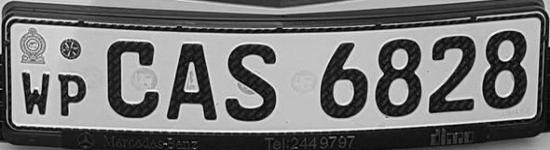2: (426, 30, 480, 119)
6: (310, 38, 373, 122)
8: (482, 24, 532, 115), (376, 34, 425, 121)
A: (164, 41, 219, 128)
C: (100, 34, 164, 122)
P: (56, 71, 89, 121)
S: (222, 39, 288, 126)
W: (16, 66, 52, 118)
